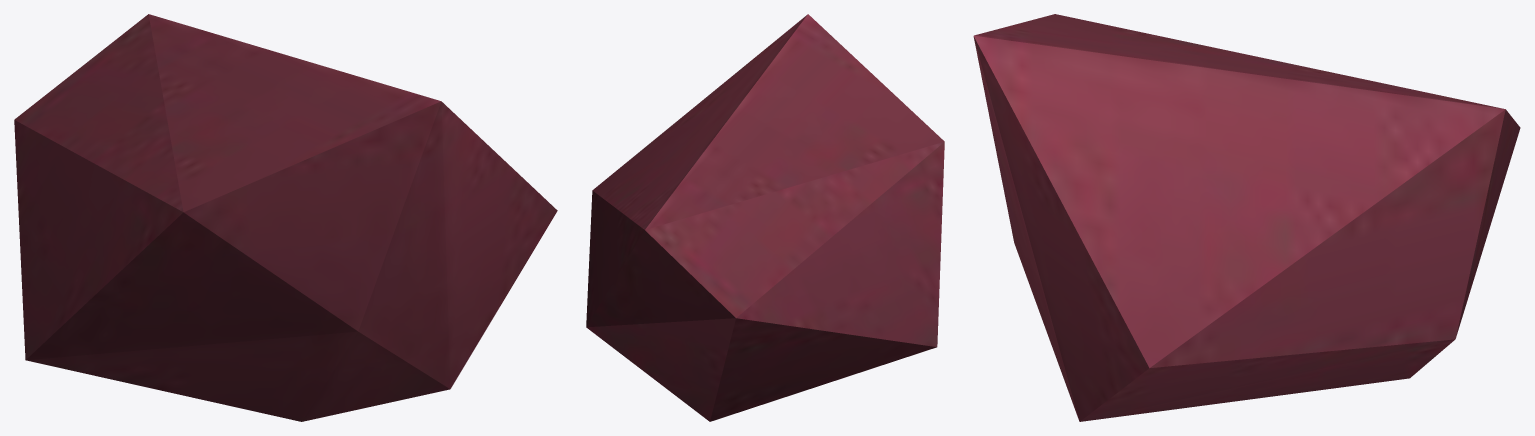
Rendered from promethium-asteroid-chunk.glb.
3 renders of one model, left to right at view 1: azimuth 30°, elevation 25°; view 2: azimuth 150°, elevation 25°; view 3: azimuth 270°, elevation 25°, orthographic. The views are drawn at different scales.
Visible parts, largest first — view 1: promethium-asteroid-chunk; view 2: promethium-asteroid-chunk; view 3: promethium-asteroid-chunk.
Boxes of the visible parts, x1,y1,x2,y2 form: promethium-asteroid-chunk: [14, 14, 557, 421]; promethium-asteroid-chunk: [586, 14, 944, 421]; promethium-asteroid-chunk: [973, 14, 1520, 421].
Size of the model in its own units: 0.24 by 0.17 by 0.22.
Materials: 1 (1 with a texture image).
